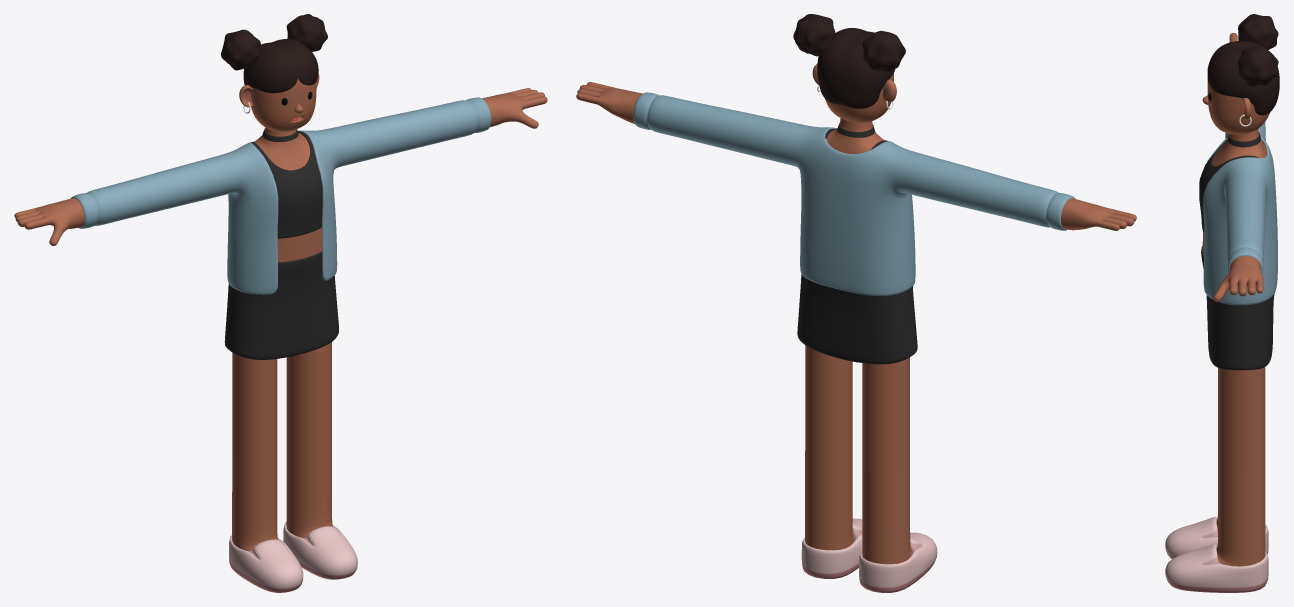
The model's file is GIRL 2.fbx.
The picture shows the model from 3 angles, left to right: view 1: azimuth 30°, elevation 25°; view 2: azimuth 150°, elevation 25°; view 3: azimuth 270°, elevation 25°; orthographic projection. The views are drawn at different scales.
Parts seen in each view (by area): view 1: GIRL_BODY_WITH SKIRT.001, GIRL 2_JACKET, GIRL 2_SKIRT, GIRL 2_HAIR, GIRL 2_TANKTOP, GIRL_2_SHOES.R, GIRL_2_SHOES.L; view 2: GIRL 2_JACKET, GIRL_BODY_WITH SKIRT.001, GIRL 2_SKIRT, GIRL 2_HAIR, GIRL_2_SHOES.R, GIRL_2_SHOES.L; view 3: GIRL_BODY_WITH SKIRT.001, GIRL 2_JACKET, GIRL 2_HAIR, GIRL 2_SKIRT, GIRL_2_SHOES.L, GIRL_2_SHOES.R, GIRL 2_TANKTOP, GIRL 2_NECKBAND.
Part boxes in pixels (x1,y1,x2,y2): GIRL_BODY_WITH SKIRT.001: [14, 73, 547, 551]; GIRL 2_JACKET: [71, 97, 491, 294]; GIRL 2_SKIRT: [224, 251, 338, 359]; GIRL 2_HAIR: [221, 14, 327, 93]; GIRL 2_TANKTOP: [251, 131, 322, 238]; GIRL_2_SHOES.R: [229, 535, 303, 592]; GIRL_2_SHOES.L: [283, 522, 357, 579]; GIRL 2_JACKET: [633, 92, 1075, 295]; GIRL_BODY_WITH SKIRT.001: [576, 64, 1136, 564]; GIRL 2_SKIRT: [797, 274, 917, 364]; GIRL 2_HAIR: [793, 14, 905, 108]; GIRL_2_SHOES.R: [859, 532, 937, 592]; GIRL_2_SHOES.L: [801, 518, 862, 578]; GIRL_BODY_WITH SKIRT.001: [1202, 33, 1270, 566]; GIRL 2_JACKET: [1203, 122, 1277, 305]; GIRL 2_HAIR: [1207, 14, 1279, 115]; GIRL 2_SKIRT: [1201, 246, 1274, 370]; GIRL_2_SHOES.L: [1165, 543, 1268, 592]; GIRL_2_SHOES.R: [1165, 516, 1268, 558]; GIRL 2_TANKTOP: [1199, 139, 1265, 232]; GIRL 2_NECKBAND: [1227, 132, 1260, 147].
Size of the model in its own units: 205 by 197 by 38.09.
11 materials, 8 textured.
